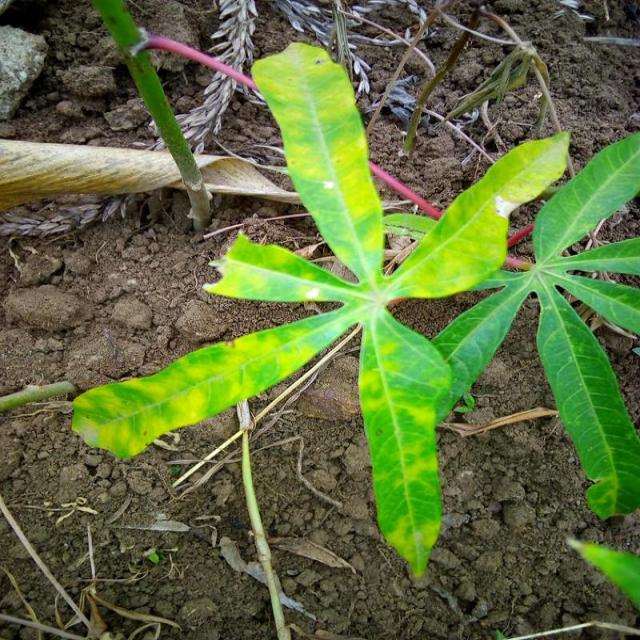cassava leaf: (70, 38, 638, 577), (249, 40, 385, 282), (534, 273, 639, 521)
